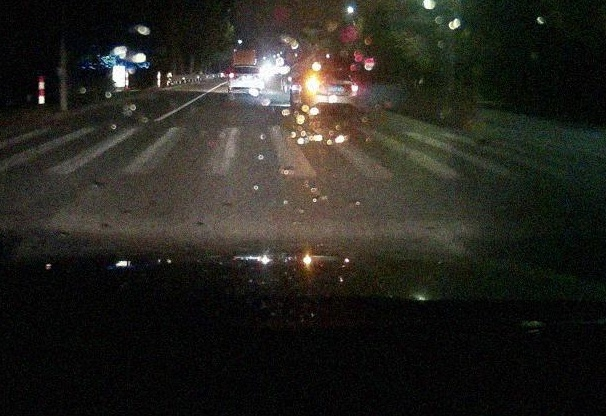L_light: (308, 83, 319, 92), (229, 73, 234, 78)
R_light: (351, 85, 358, 92), (258, 74, 263, 79)
T_light: (327, 71, 337, 72), (243, 67, 250, 68)
night-left: (307, 69, 358, 114)
night-no: (228, 65, 264, 94)
